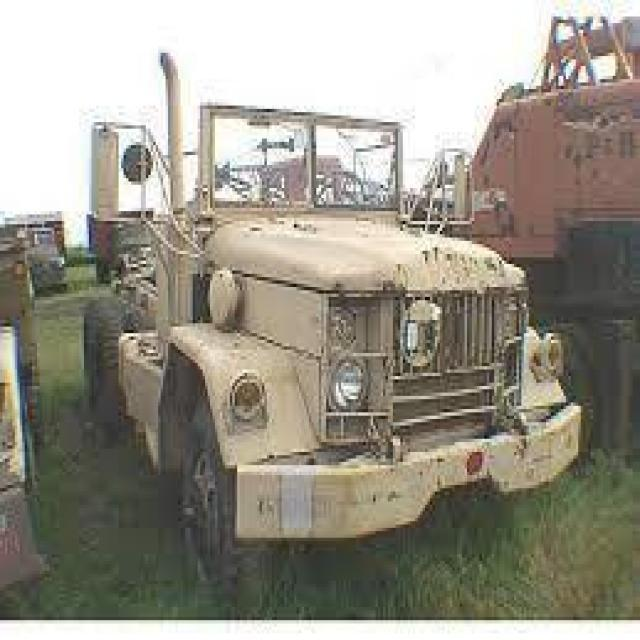MIL_MBT: (73, 46, 584, 597)
